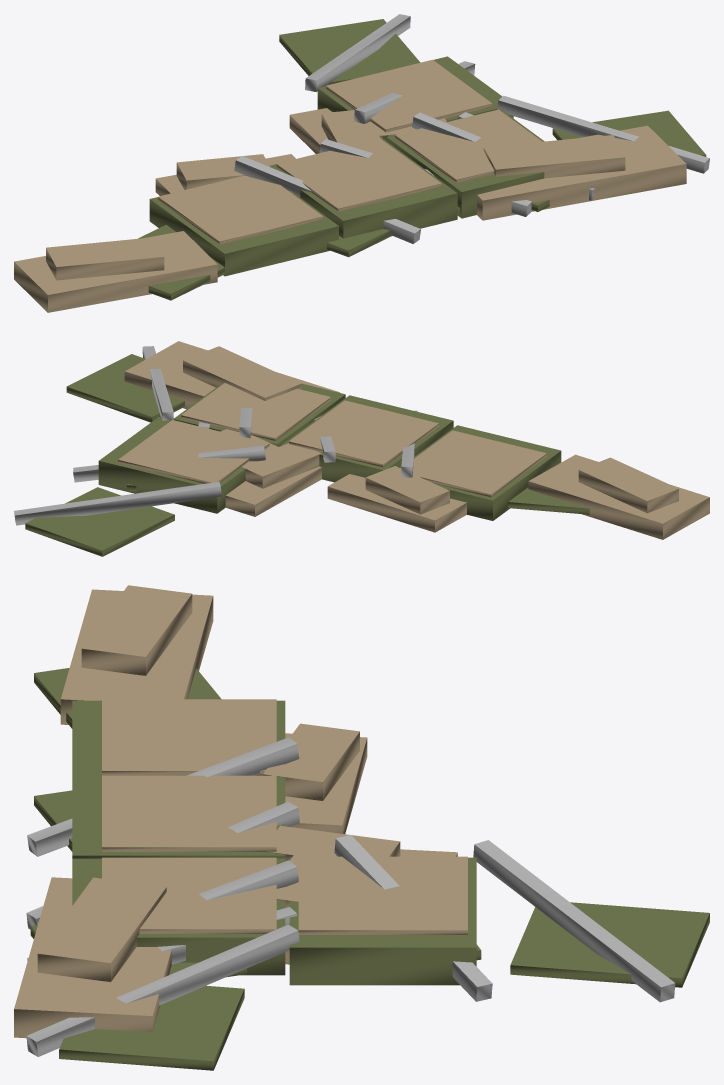
The model's file is SM_HescoRemateEspejo_v0_MallaLimpia_e3_Brecha_LOD1.fbx.
The picture shows the model from 3 angles, top to bottom: view 1: azimuth 30°, elevation 25°; view 2: azimuth 150°, elevation 25°; view 3: azimuth 270°, elevation 25°; orthographic projection. The views are drawn at different scales.
Visible parts, largest first — view 1: SM_hesco_piezas_v23_LOD1; view 2: SM_hesco_piezas_v23_LOD1; view 3: SM_hesco_piezas_v23_LOD1.
Boxes of the visible parts, x1,y1,x2,y2 form: SM_hesco_piezas_v23_LOD1: [14, 14, 709, 312]; SM_hesco_piezas_v23_LOD1: [14, 341, 709, 556]; SM_hesco_piezas_v23_LOD1: [14, 585, 709, 1070].
Size of the model in its own units: 6.23 by 0.351 by 3.99.
